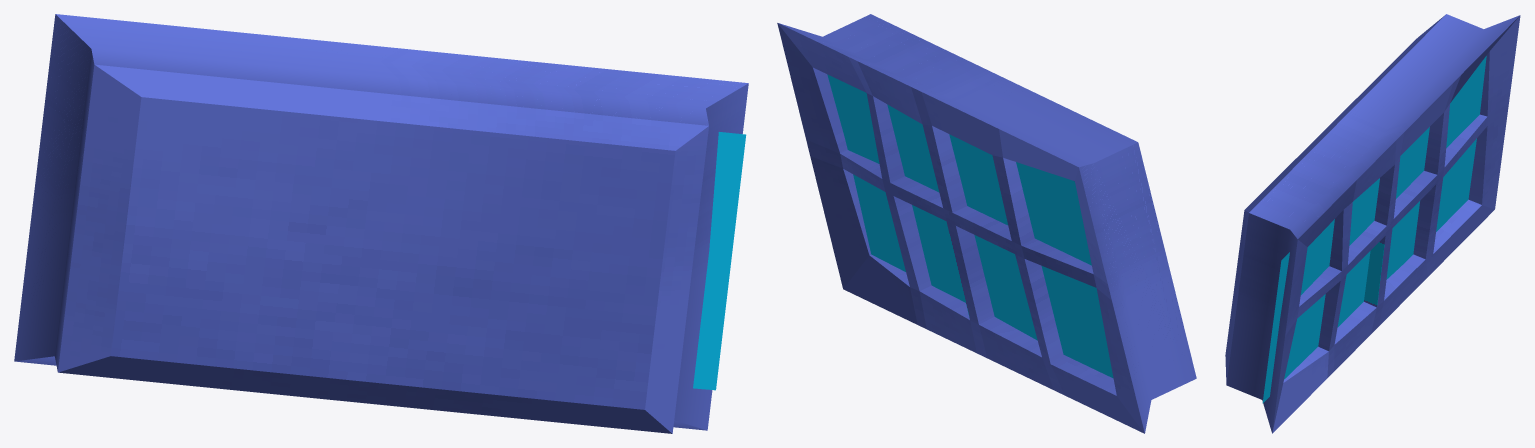
Rendered from C_IceCubes_Tray.fbx.
3 views of the same model, side by side, from view 1: azimuth 30°, elevation 25°; view 2: azimuth 150°, elevation 25°; view 3: azimuth 270°, elevation 25° (orthographic). The views are drawn at different scales.
Parts seen in each view (by area): view 1: CubeTray.001; view 2: CubeTray.001; view 3: CubeTray.001.
Boxes of the visible parts, <box> form: CubeTray.001: <box>14,14,748,433</box>; CubeTray.001: <box>777,14,1196,433</box>; CubeTray.001: <box>1225,14,1520,433</box>.
Size of the model in its own units: 45.59 by 28.86 by 29.05.
